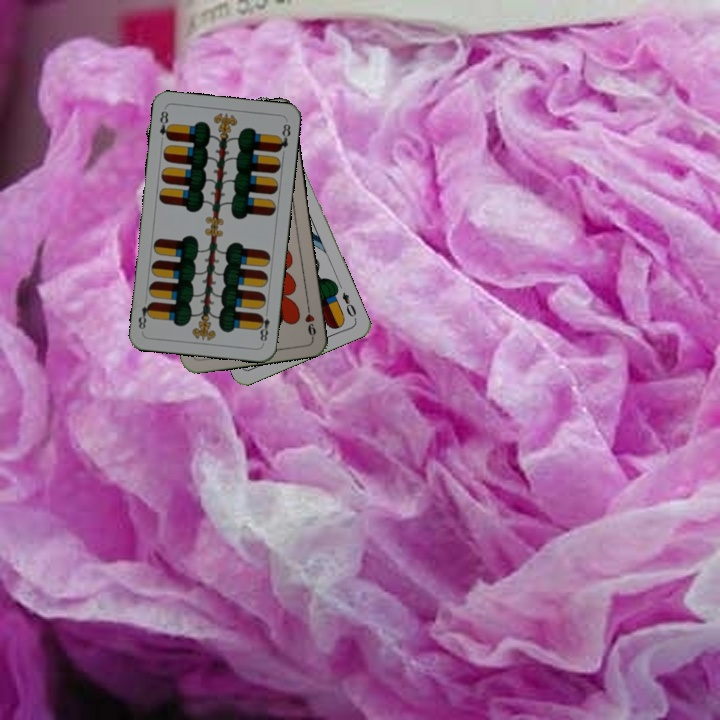E8: (254, 306, 272, 346), (155, 107, 174, 143)
EO: (338, 288, 359, 323)
H9: (301, 300, 319, 340)
